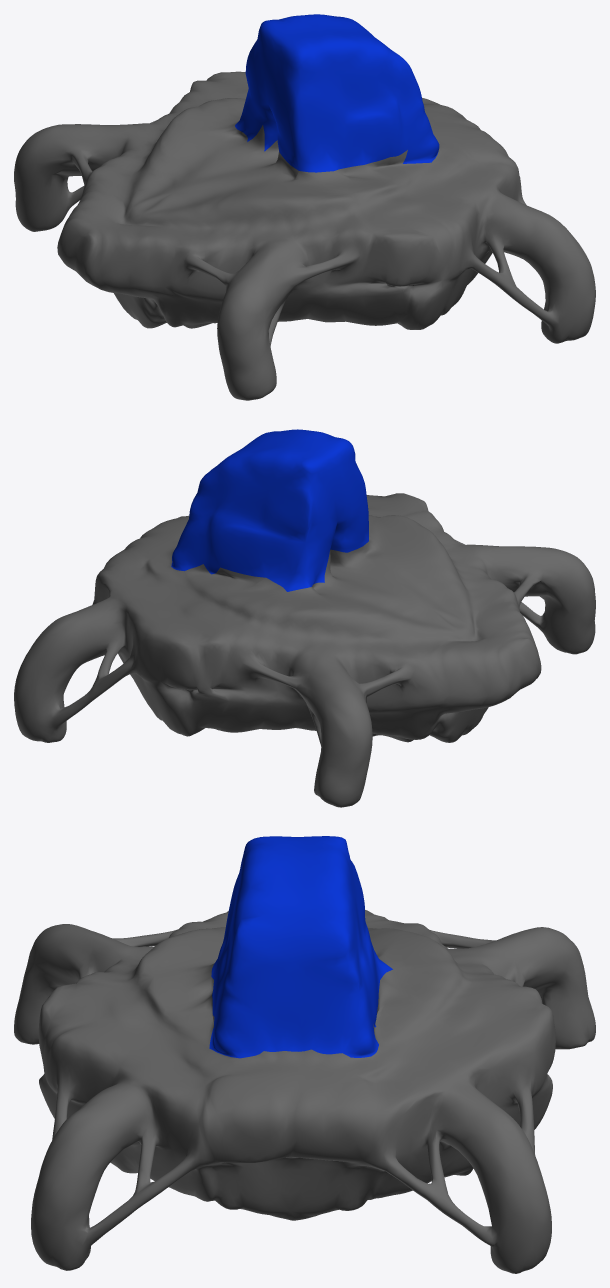
The model's file is car3_1.fbx.
The picture shows the model from 3 angles, top to bottom: view 1: azimuth 30°, elevation 25°; view 2: azimuth 150°, elevation 25°; view 3: azimuth 270°, elevation 25°; orthographic projection. The views are drawn at different scales.
Parts seen in each view (by area): view 1: Layer_1; view 2: Layer_1; view 3: Layer_1.
Part boxes in pixels (box(x1,y1,x2,y2)): Layer_1: box(14, 14, 595, 400); Layer_1: box(14, 429, 595, 807); Layer_1: box(14, 836, 595, 1273).
Bounding box in the file's own units: 133 × 81.9 × 134.
